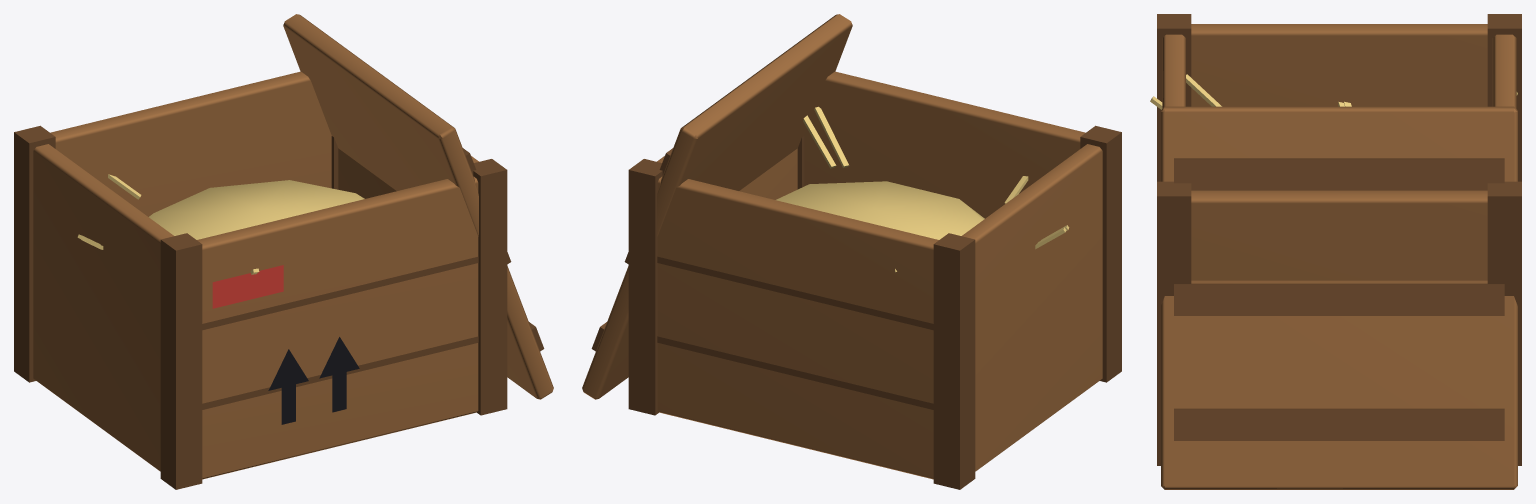
The model's file is CajaAbierta.fbx.
3 renders of one model, left to right at view 1: azimuth 30°, elevation 25°; view 2: azimuth 150°, elevation 25°; view 3: azimuth 270°, elevation 25°, orthographic. The views are drawn at different scales.
Parts seen in each view (by area): view 1: CajaAbierta; view 2: CajaAbierta; view 3: CajaAbierta.
Boxes of the visible parts, <box> form: CajaAbierta: <box>14,14,553,489</box>; CajaAbierta: <box>582,14,1121,489</box>; CajaAbierta: <box>1150,14,1521,489</box>.
Bounding box in the file's own units: 3.96 × 2.77 × 2.81.
Materials: 1 (1 with a texture image).
